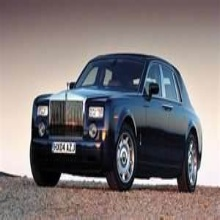no damage: (30, 53, 200, 193)
